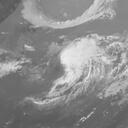cyclone: (57, 39, 114, 84)
